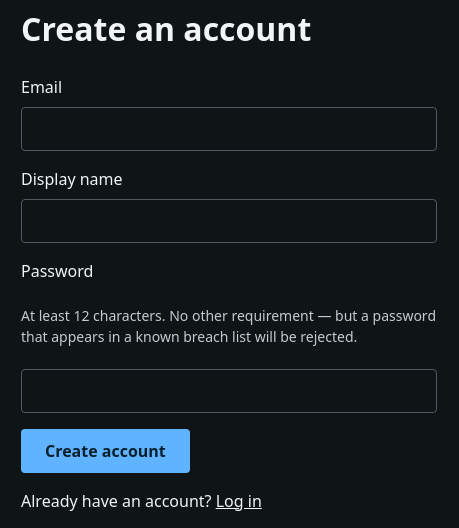
Test: Register (S-02, docs/32_UX/Screen_Inventory.md §3) › leads to log in on success rather than home (registration sets no session)
The image size is (459, 528).
Step 1. Type "alice@example.com" into the field labelled "Email" → (229, 129), box left=21, top=107, right=437, bottom=151
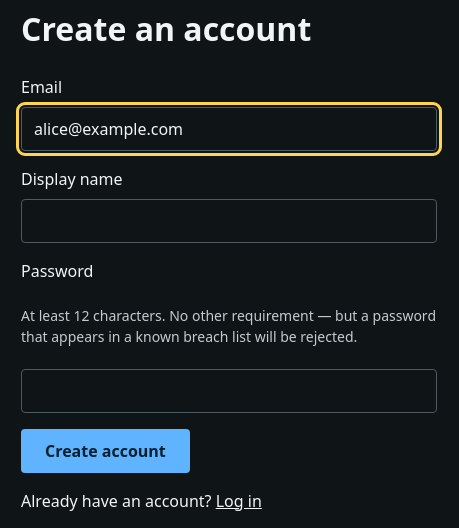
Step 2. Type "Alice" into the field labelled "Display name" → (229, 221), box left=21, top=199, right=437, bottom=243
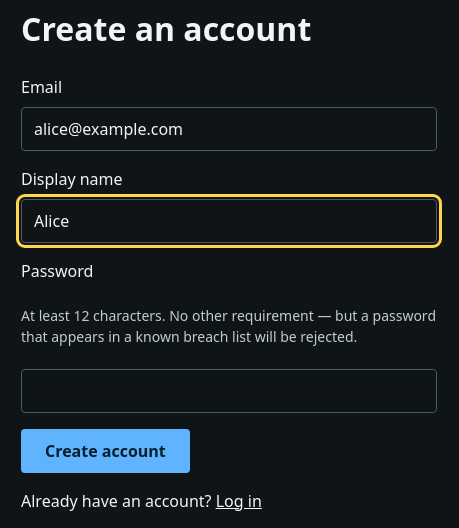
Step 3. Type "correct horse battery staple" into the password field labelled "Password" → (229, 391), box left=21, top=369, right=437, bottom=413
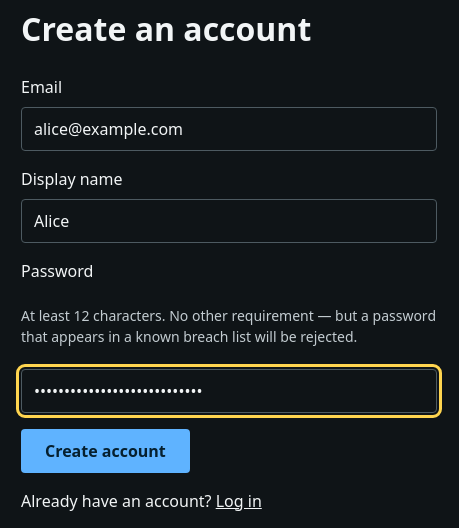
Step 4. Click the button "Create account" → click(105, 451), box left=21, top=429, right=190, bottom=473
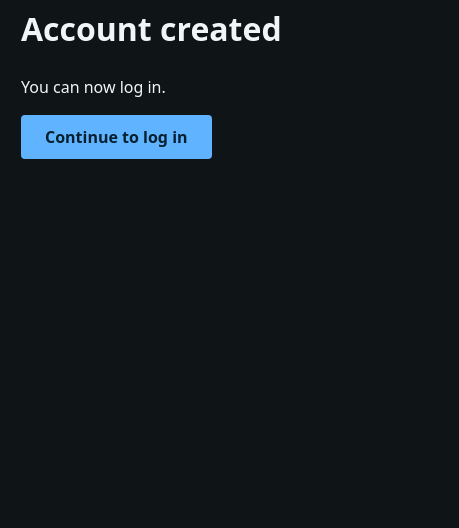
Check: the button "Continue to log in" is shown, box left=21, top=115, right=212, bottom=159
